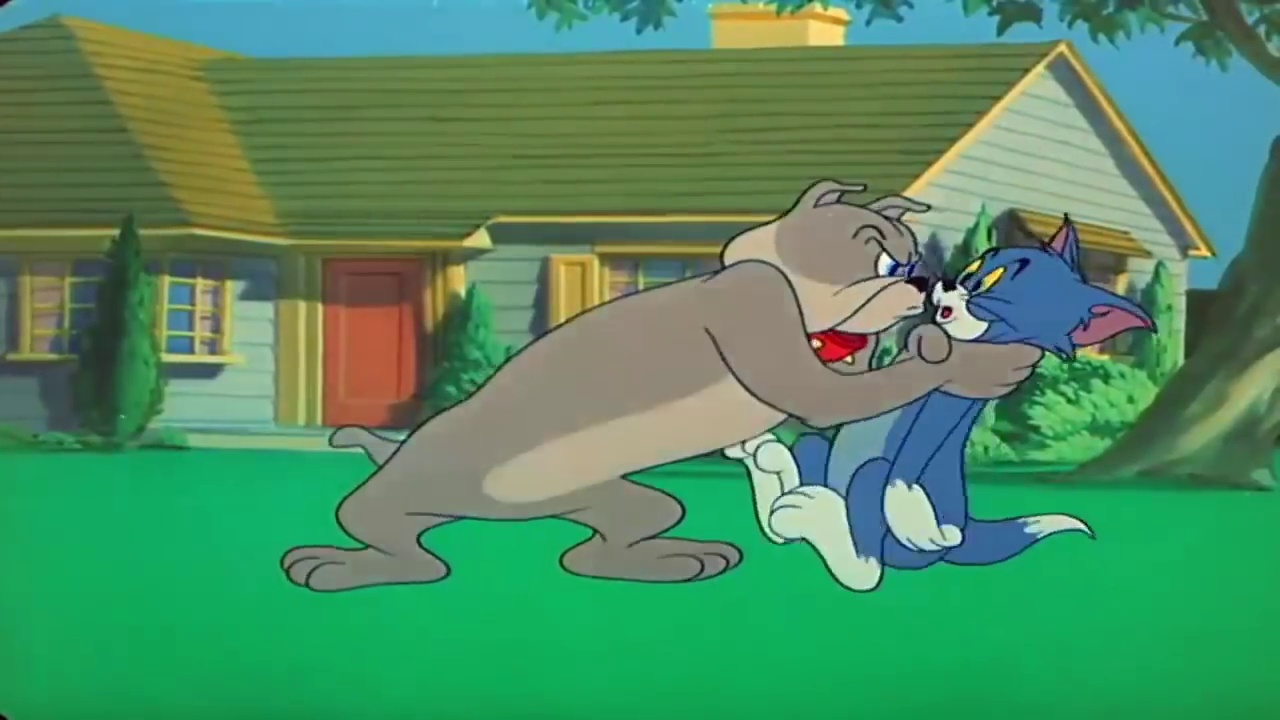spike: (719, 176, 936, 367)
tom: (930, 211, 1159, 374)
